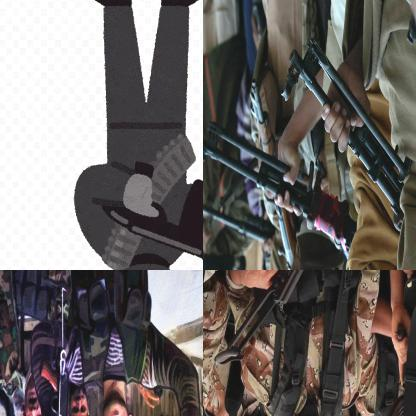rifle: (279, 22, 406, 234), (203, 120, 356, 258), (215, 270, 341, 364), (100, 162, 202, 269), (24, 359, 74, 415), (391, 325, 415, 415)
